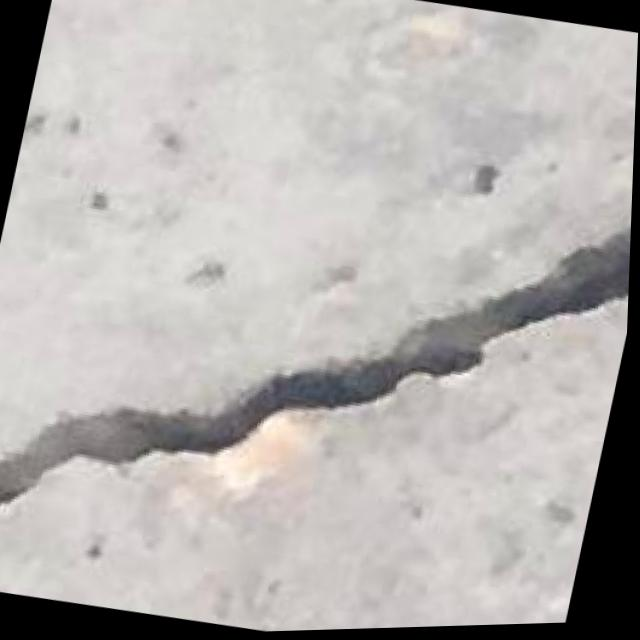Crack: (0, 87, 637, 635)
